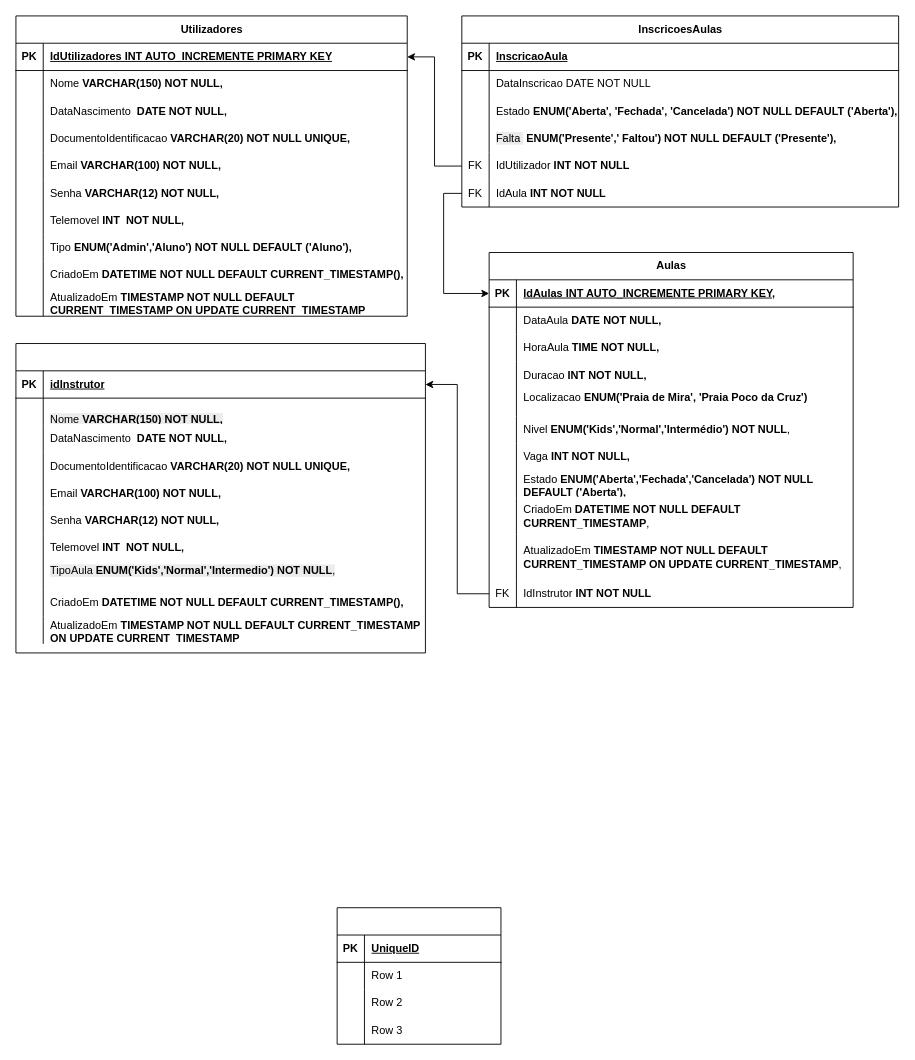
Image size: 915x1060. Some labels were removed from this diagram. Here are the shapes that lost their labels. From the top down, the box of each, then its label:
(15, 343, 425, 653): Instrutores
(336, 907, 501, 1044): Table
